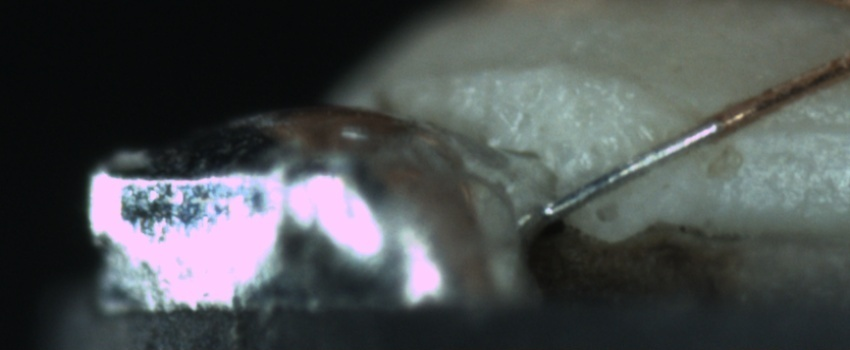DL: (742, 97, 849, 161)
TS: (546, 119, 718, 221)
